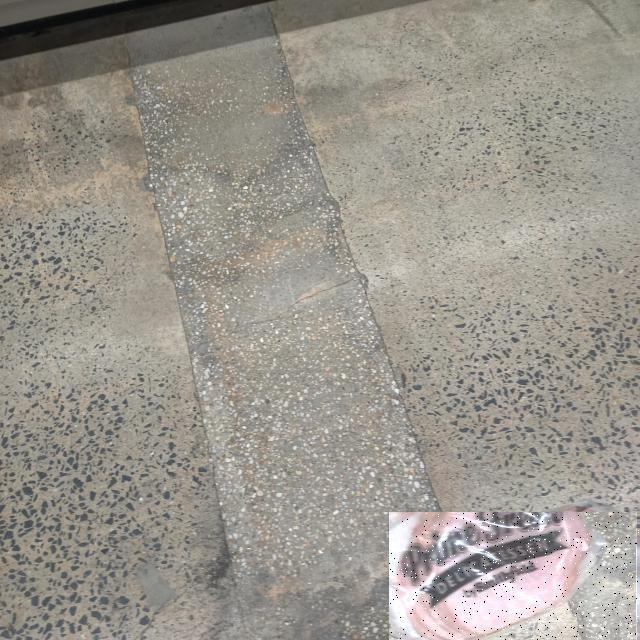Meat: (390, 512, 640, 640)
